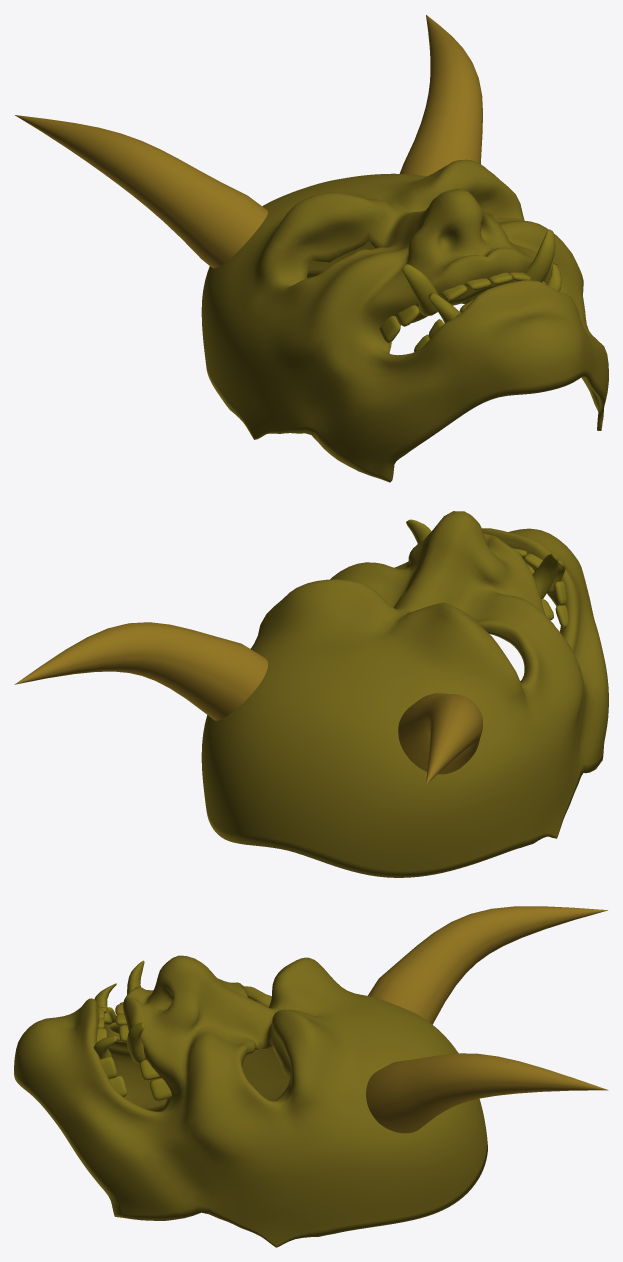
3 renders of one model, top to bottom at view 1: azimuth 30°, elevation 25°; view 2: azimuth 150°, elevation 25°; view 3: azimuth 270°, elevation 25°, orthographic. The views are drawn at different scales.
Parts seen in each view (by area): view 1: oni face, corno1, Cube; view 2: oni face, corno1, Cube; view 3: oni face, corno1, Cube.
Part boxes in pixels (left/top/right/bottom): oni face: left=201, top=159, right=608, bottom=482; corno1: left=15, top=15, right=482, bottom=268; Cube: left=379, top=229, right=561, bottom=351; oni face: left=201, top=511, right=608, bottom=877; corno1: left=14, top=622, right=482, bottom=784; Cube: left=406, top=519, right=568, bottom=628; oni face: left=14, top=955, right=487, bottom=1247; corno1: left=366, top=906, right=608, bottom=1133; Cube: left=93, top=960, right=171, bottom=1100.
Bounding box in the file's own units: 1.06 × 1.48 × 0.6167.
